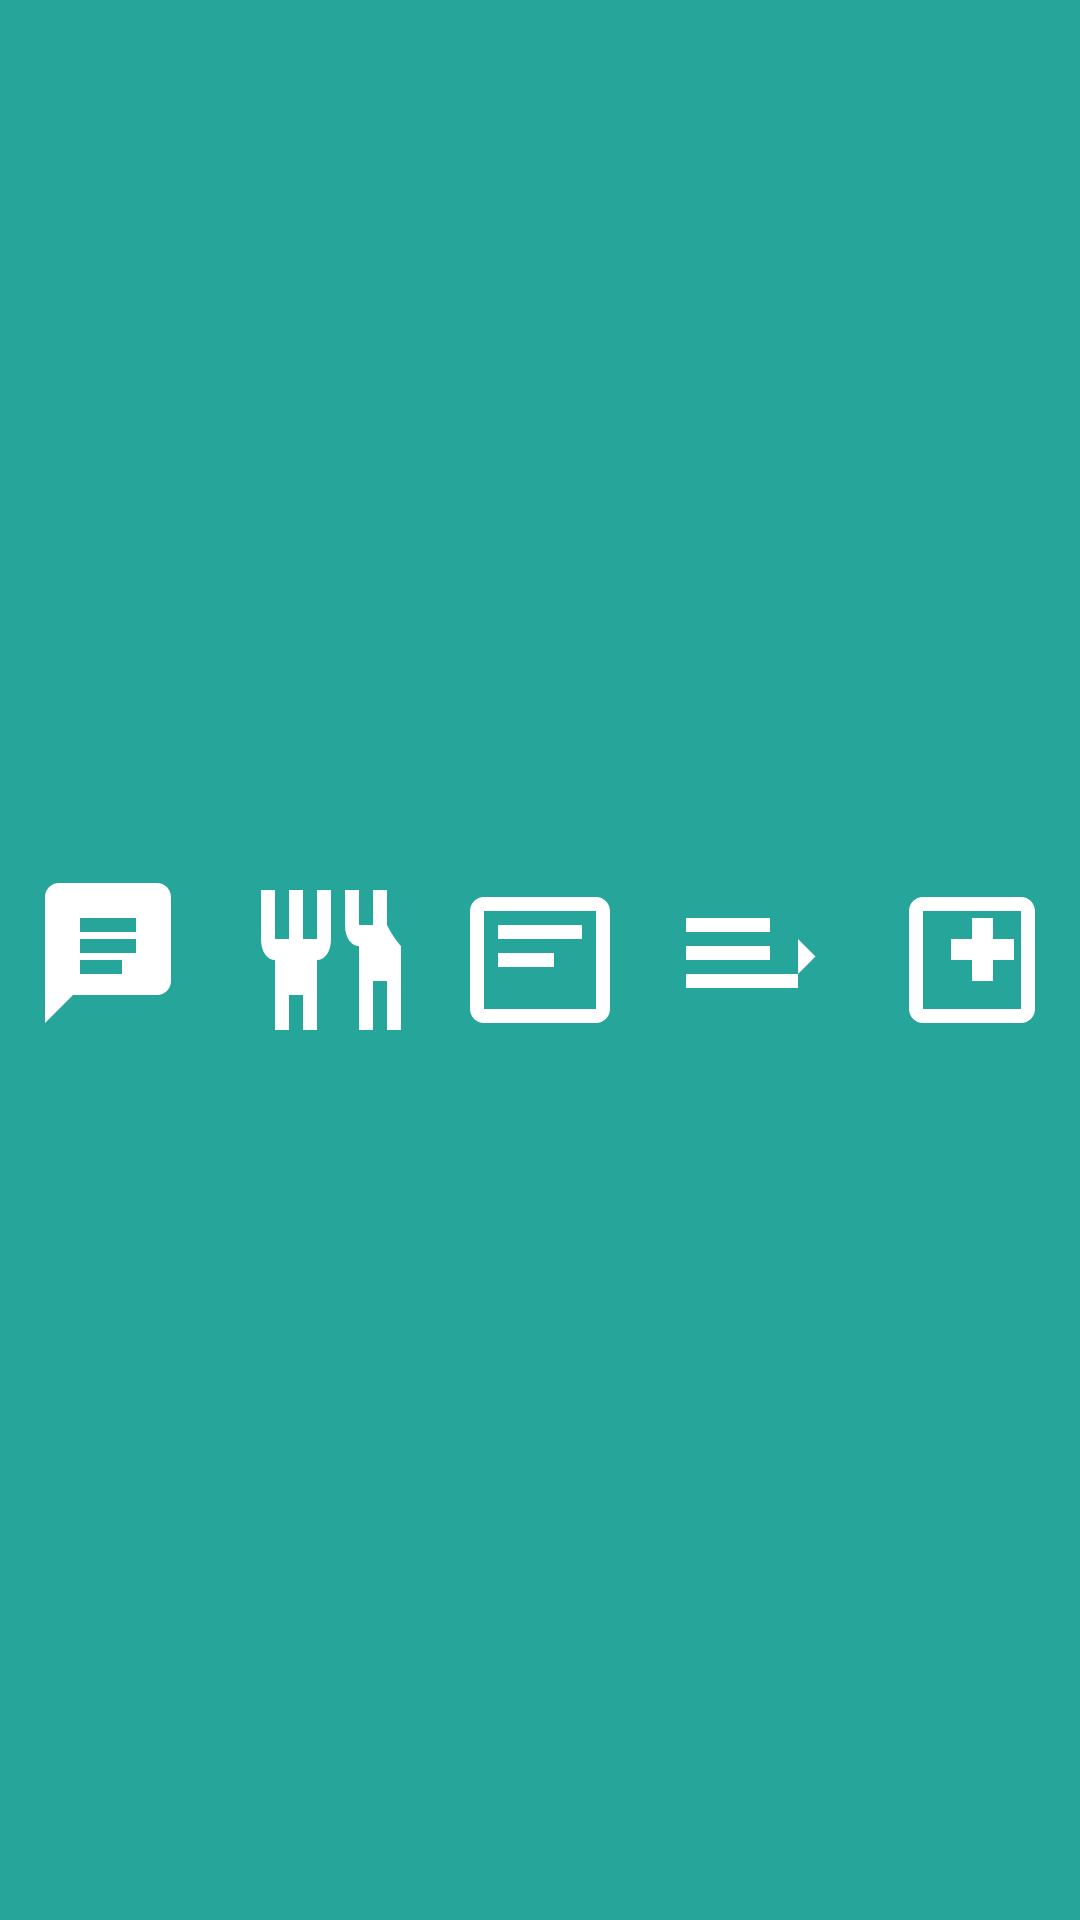

Screen size 1080w x 1920h. Icon name, then its box in pixels as bbox=(x1, y1, x2, y2):
card: bbox=(470, 897, 610, 1023)
comida: bbox=(261, 890, 401, 1030)
lista: bbox=(686, 918, 816, 988)
